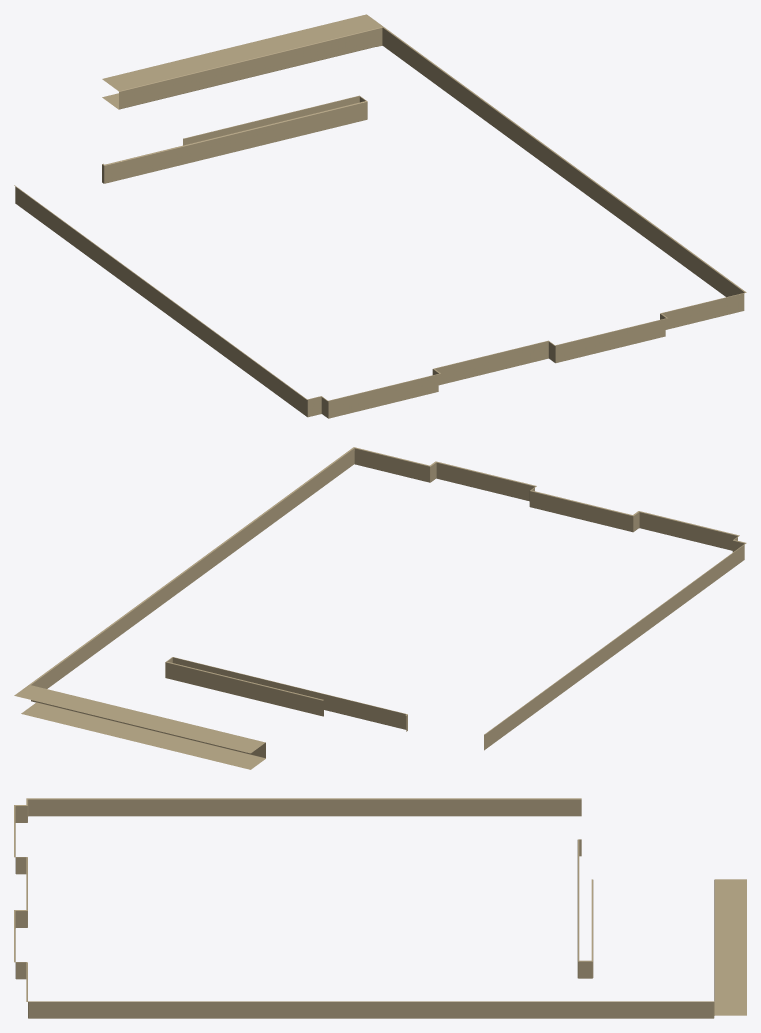
The model's file is kornelius wall edge.fbx.
3 renders of one model, top to bottom at view 1: azimuth 30°, elevation 25°; view 2: azimuth 150°, elevation 25°; view 3: azimuth 270°, elevation 25°, orthographic. The views are drawn at different scales.
Parts seen in each view (by area): view 1: wall edge; view 2: wall edge; view 3: wall edge.
Boxes of the visible parts, box(x1,y1,x2,y2) form: wall edge: box(14, 14, 746, 418); wall edge: box(14, 447, 746, 769); wall edge: box(14, 798, 746, 1018).
Size of the model in its own units: 775 by 30.9 by 1180.
